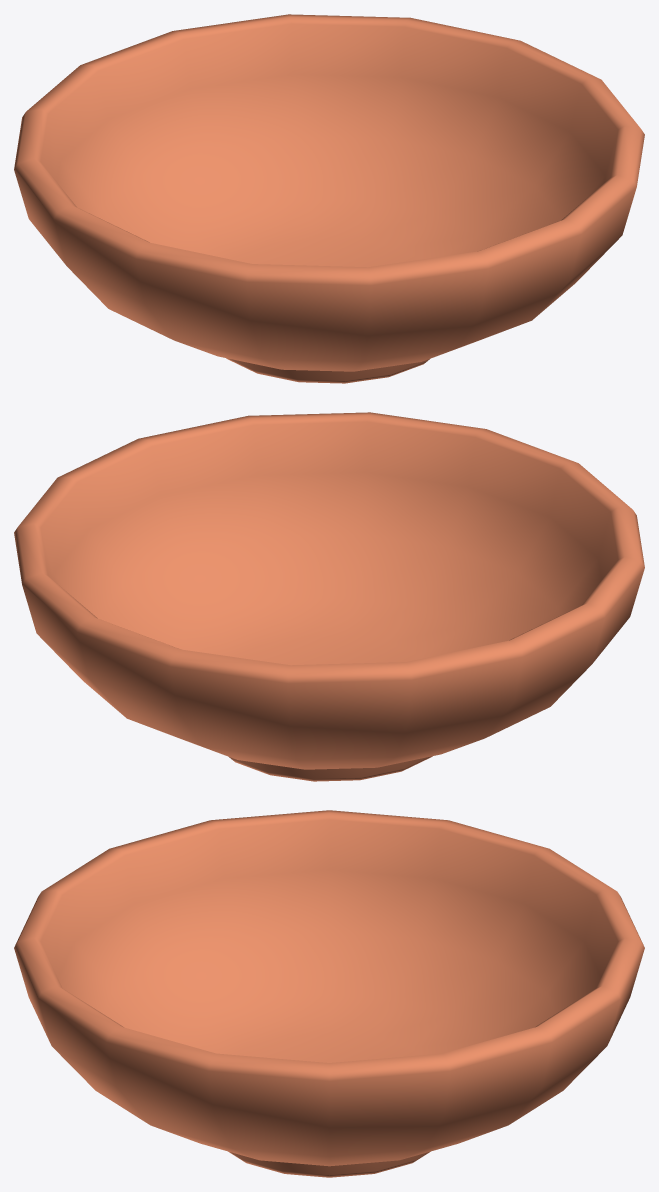
File: bowl.fbx
3 views of the same model, one above another, from view 1: azimuth 30°, elevation 25°; view 2: azimuth 150°, elevation 25°; view 3: azimuth 270°, elevation 25° (orthographic).
Parts seen in each view (by area): view 1: Bowl.001; view 2: Bowl.001; view 3: Bowl.001.
Boxes of the visible parts, x1=… form: Bowl.001: x1=14, y1=14, x2=644, y2=383; Bowl.001: x1=14, y1=412, x2=644, y2=781; Bowl.001: x1=14, y1=810, x2=644, y2=1177.
Size of the model in its own units: 34.6 by 11.5 by 34.6.
